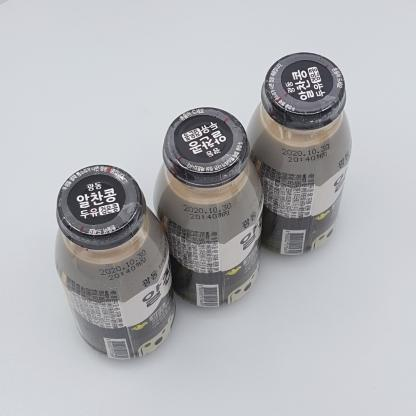--------200ML: (54, 164, 176, 360), (153, 107, 264, 307), (244, 52, 352, 255)
